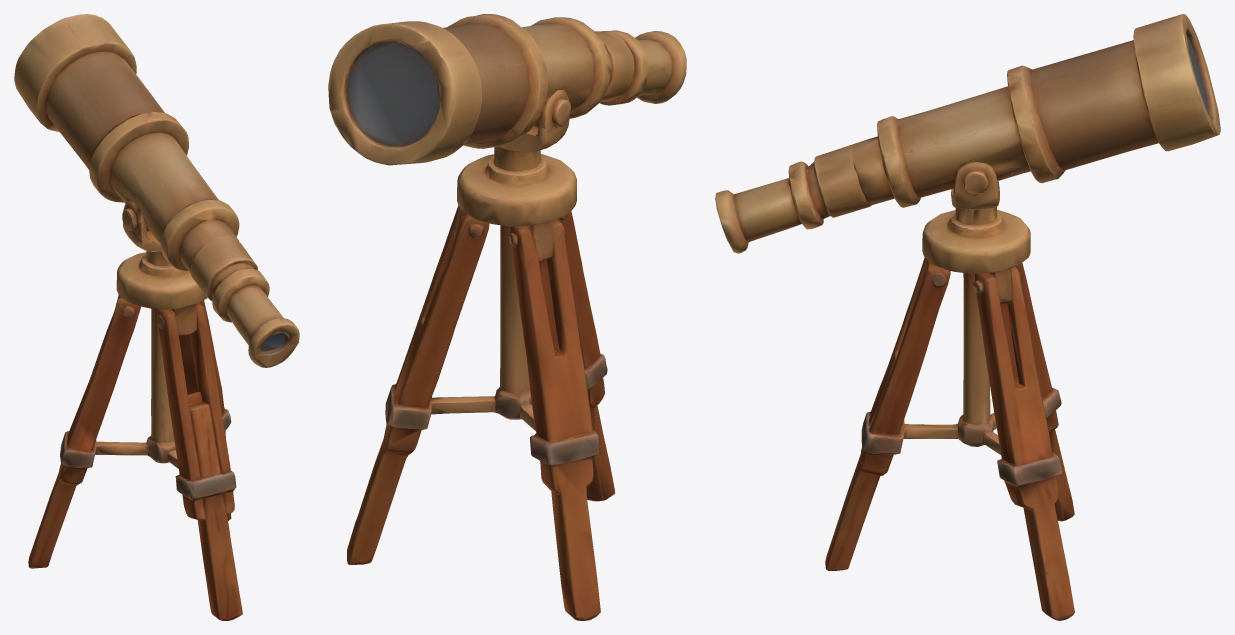
The model's file is telescope.glb.
The picture shows the model from 3 angles, left to right: view 1: azimuth 30°, elevation 25°; view 2: azimuth 150°, elevation 25°; view 3: azimuth 270°, elevation 25°; orthographic projection. The views are drawn at different scales.
Parts seen in each view (by area): view 1: Mesh; view 2: Mesh; view 3: Mesh.
Part boxes in pixels (x1,y1,x2,y2): Mesh: (14,14,299,620); Mesh: (328,14,686,620); Mesh: (715,14,1220,620).
Bounding box in the file's own units: 0.8222 × 1.9 × 1.59.
Materials: 1 (1 with a texture image).
